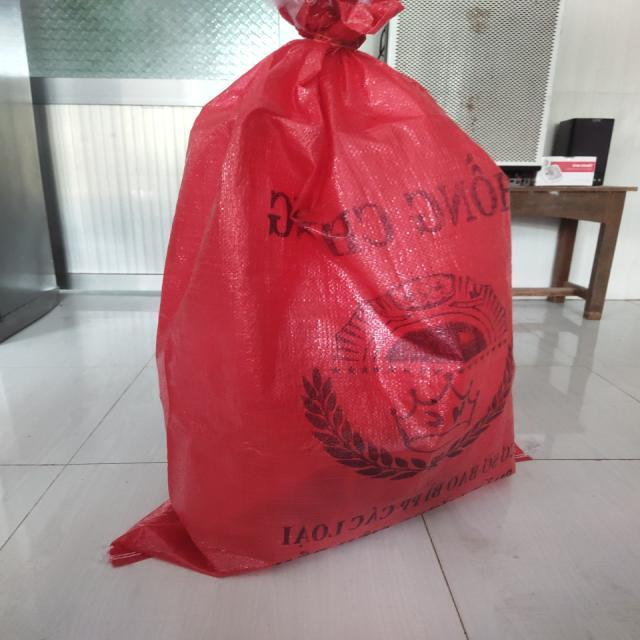gunny_bag: (109, 0, 515, 578)
